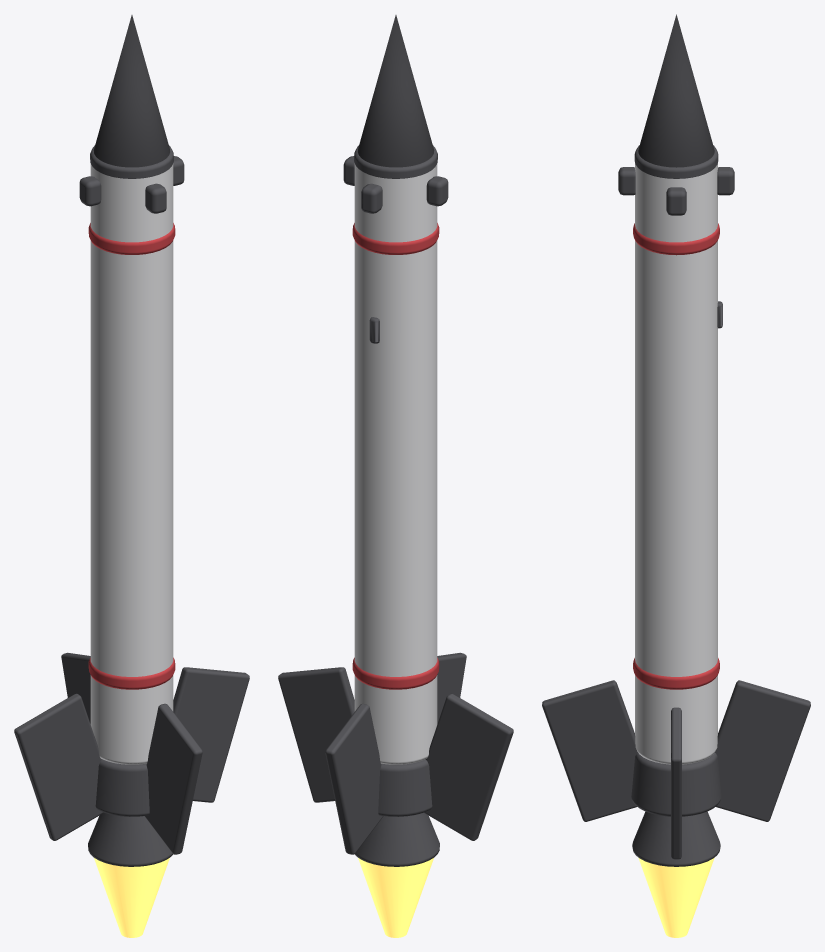
File: icbm.glb
3 views of the same model, side by side, from view 1: azimuth 30°, elevation 25°; view 2: azimuth 150°, elevation 25°; view 3: azimuth 270°, elevation 25° (orthographic).
Parts seen in each view (by area): view 1: Body, Fin_3, Nosecone, Fin_1, Fin_4, Nozzle, Flame, TailSkirt, Fin_2, Band_Aft, Band_Fwd, SepRing (+2 smaller); view 2: Body, Fin_3, Nosecone, Fin_1, Fin_2, Nozzle, Flame, TailSkirt, Fin_4, Band_Aft, Band_Fwd, SepRing (+2 smaller); view 3: Body, Fin_2, Fin_4, Nosecone, TailSkirt, Nozzle, Flame, Fin_1, Band_Aft, Band_Fwd, SepRing, RCS_1.
Boxes of the visible parts, bbox=[...] form: Body: bbox=[90, 163, 173, 764]; Fin_3: bbox=[14, 693, 103, 840]; Nosecone: bbox=[93, 15, 169, 167]; Fin_1: bbox=[173, 667, 249, 802]; Fin_4: bbox=[144, 703, 202, 854]; Nozzle: bbox=[88, 812, 173, 866]; Flame: bbox=[94, 858, 169, 937]; TailSkirt: bbox=[95, 759, 149, 816]; Fin_2: bbox=[61, 652, 90, 723]; Band_Aft: bbox=[88, 657, 175, 689]; Band_Fwd: bbox=[88, 223, 175, 254]; SepRing: bbox=[90, 145, 173, 178]; Body: bbox=[354, 163, 437, 764]; Fin_3: bbox=[424, 693, 513, 840]; Nosecone: bbox=[358, 15, 434, 167]; Fin_1: bbox=[278, 667, 354, 802]; Fin_2: bbox=[325, 703, 383, 854]; Nozzle: bbox=[354, 812, 439, 866]; Flame: bbox=[358, 858, 433, 937]; TailSkirt: bbox=[378, 759, 432, 816]; Fin_4: bbox=[437, 652, 466, 723]; Band_Aft: bbox=[352, 657, 439, 689]; Band_Fwd: bbox=[352, 223, 439, 254]; SepRing: bbox=[354, 145, 437, 178]; Body: bbox=[635, 163, 717, 764]; Fin_2: bbox=[715, 680, 810, 821]; Fin_4: bbox=[542, 680, 637, 821]; Nosecone: bbox=[638, 14, 714, 167]; TailSkirt: bbox=[631, 752, 721, 816]; Nozzle: bbox=[632, 811, 720, 866]; Flame: bbox=[638, 857, 714, 937]; Fin_1: bbox=[671, 707, 681, 859]; Band_Aft: bbox=[633, 658, 719, 689]; Band_Fwd: bbox=[633, 223, 719, 255]; SepRing: bbox=[634, 145, 718, 178]; RCS_1: bbox=[666, 187, 686, 215].
Bounding box in the file's own units: 0.2914 × 1.1 × 0.2914.
